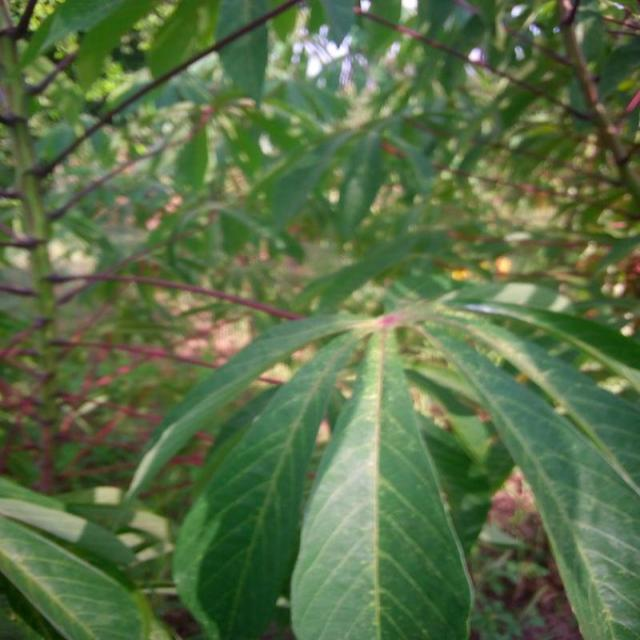cassava leaf: (171, 325, 363, 639), (288, 323, 474, 639)
